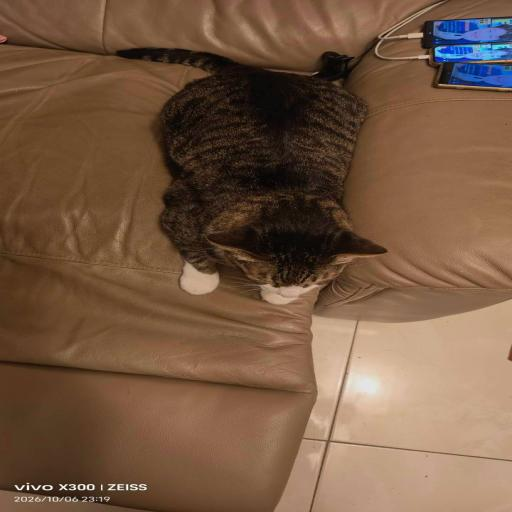cat: (180, 57, 339, 300)
